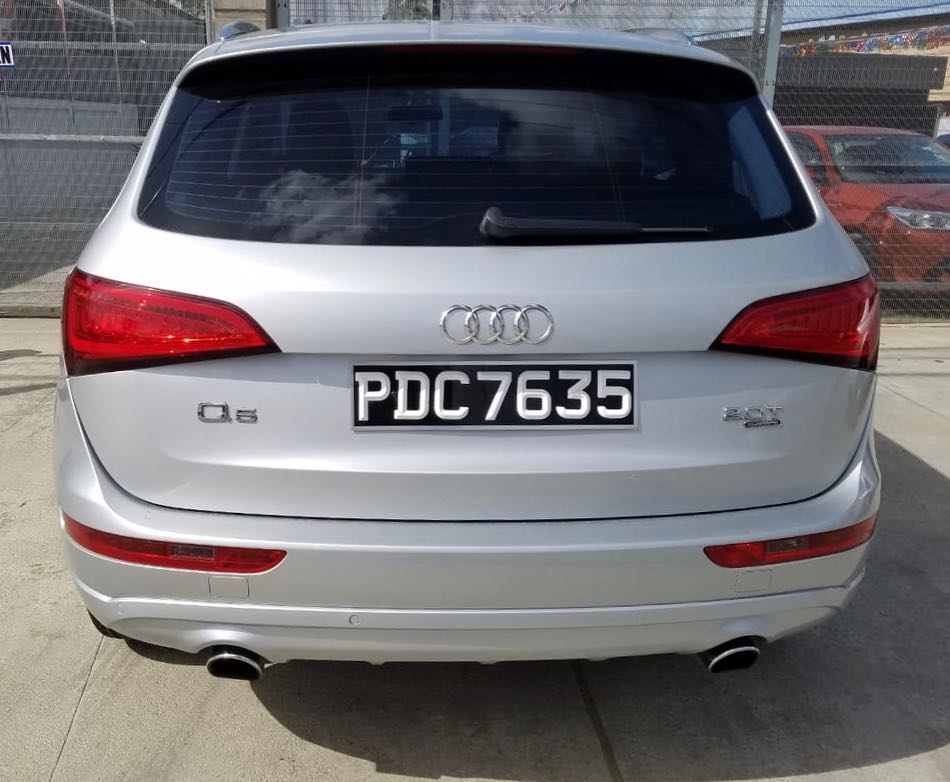License-Plate: (352, 363, 632, 427)
